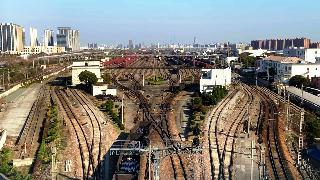train: (112, 120, 153, 180), (174, 83, 185, 91)
